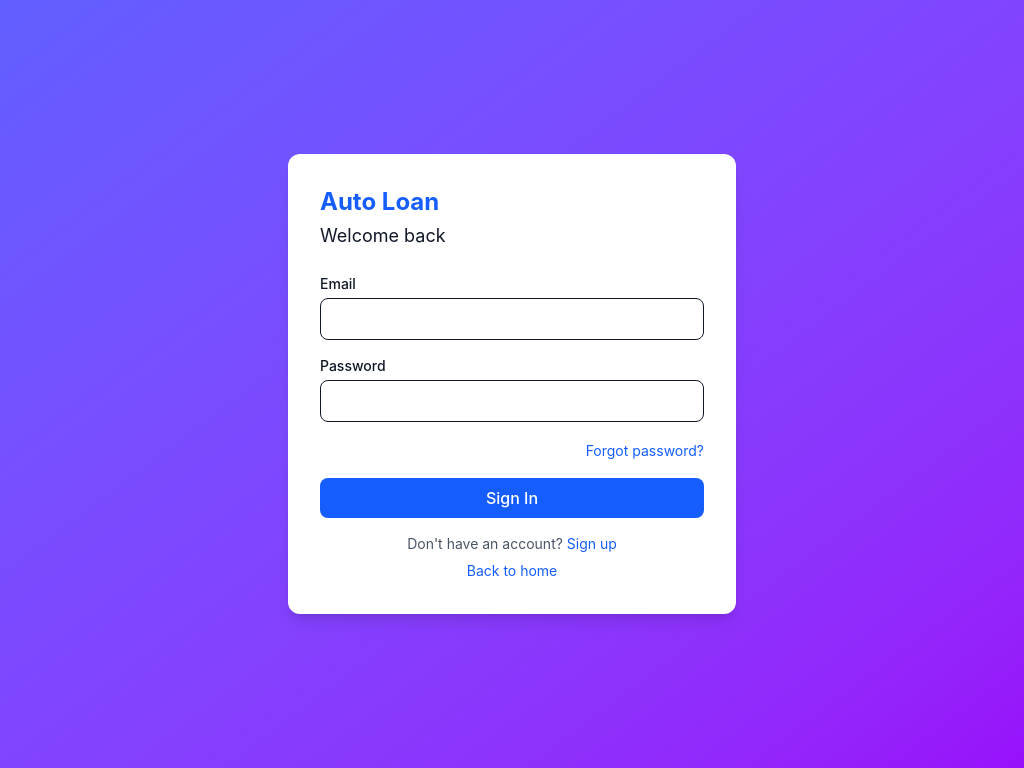
Test case: LoginPage › shows error on failed login
Type "a@b.com" into the field labelled "Email".
click(512, 319); type("a@b.com")  # box [320,298,704,340]
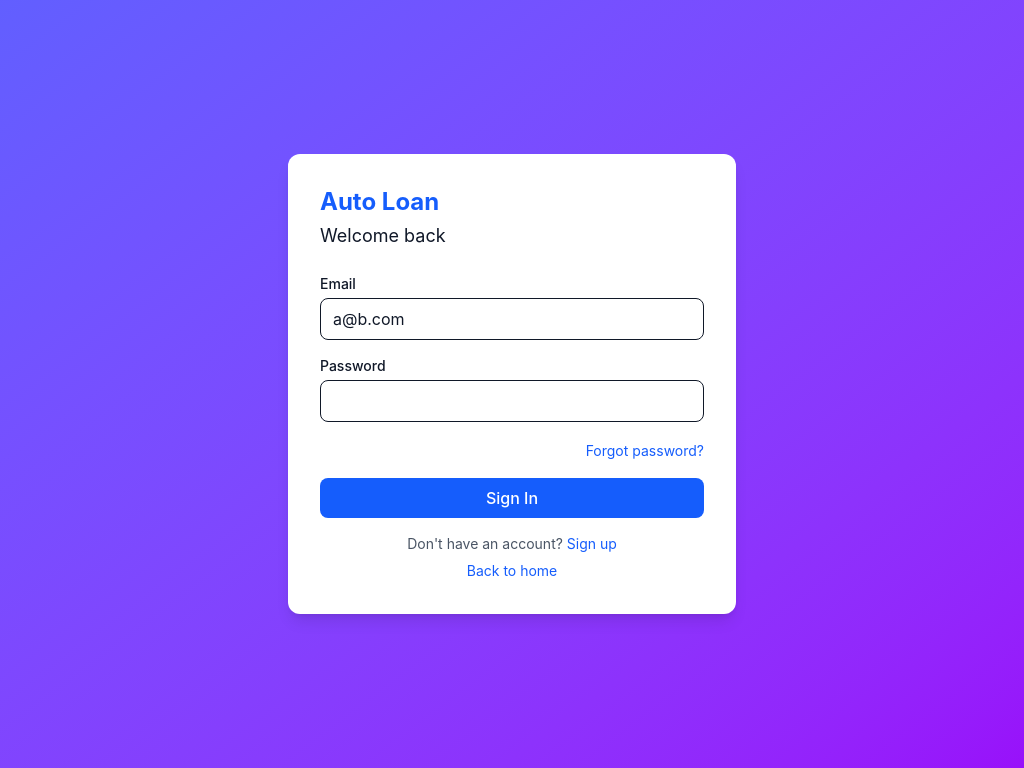
Type "wrong" into the password field labelled "Password".
click(512, 401); type("wrong")  # box [320,380,704,422]
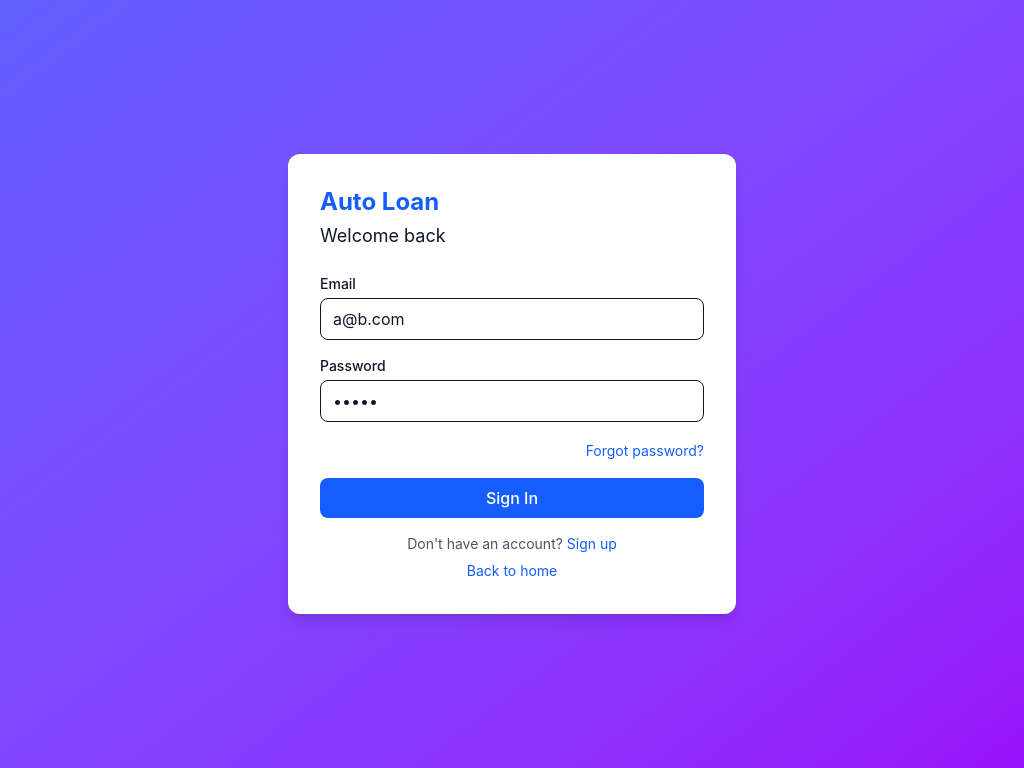
Click the button "Sign In".
click(512, 498)  # box [320,478,704,518]
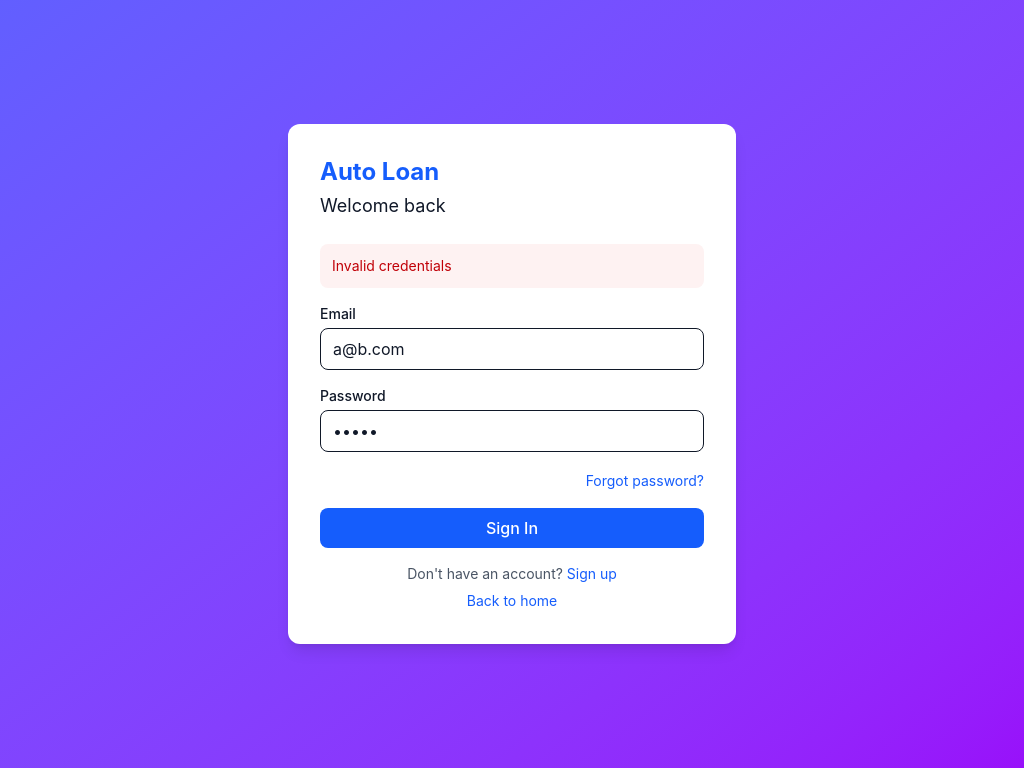
Expected: the message reads "Invalid credentials", [332,257,452,274]
